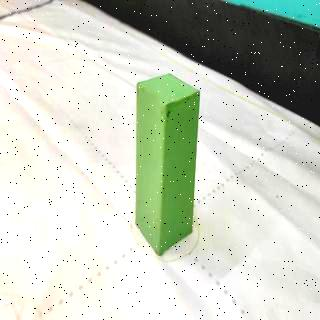greenbox: (136, 72, 202, 255)
